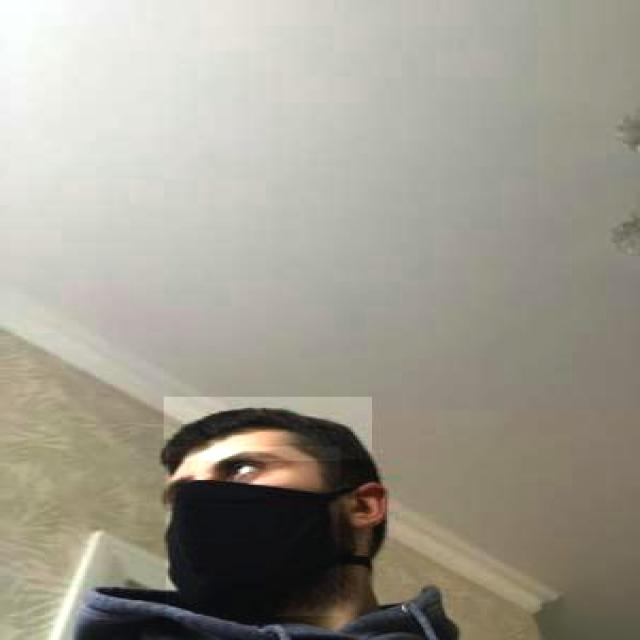face_mask: (164, 447, 340, 618)
head_nohelmet: (162, 397, 372, 461)
